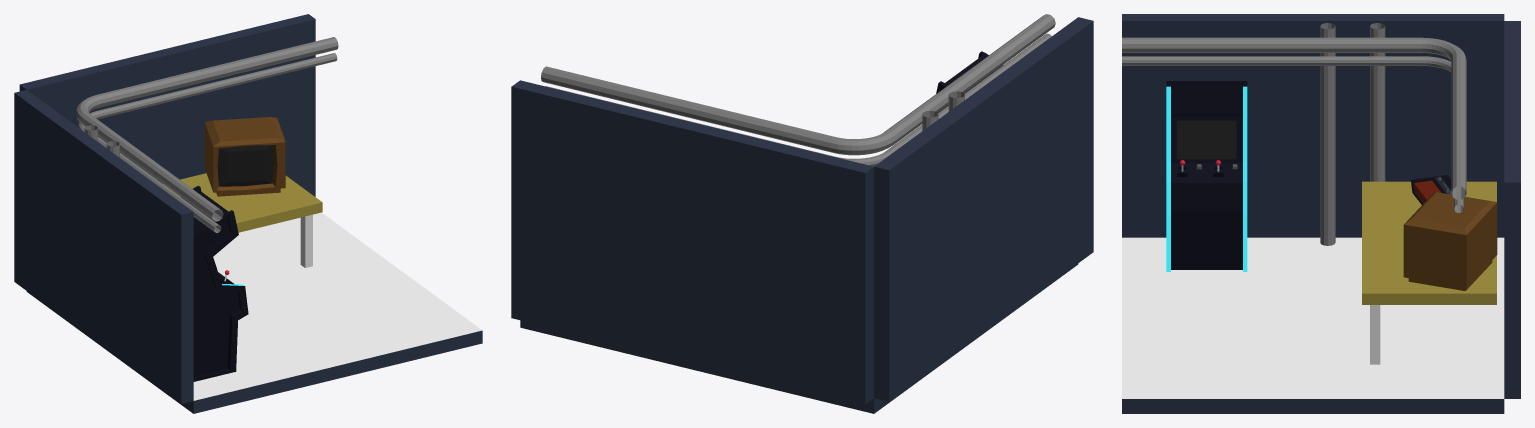
The model's file is room.glb.
The picture shows the model from 3 angles, left to right: view 1: azimuth 30°, elevation 25°; view 2: azimuth 150°, elevation 25°; view 3: azimuth 270°, elevation 25°; orthographic projection. The views are drawn at different scales.
Parts seen in each view (by area): view 1: Walls, Plane.005, Tube top, Tabletop, Tube Bottom, Plane.012, Plane.010, Table; view 2: Walls, Tube top, Tube Bottom; view 3: Walls, Plane.005, Tabletop, Tube top, Plane.010, Tubes Vertical, Tube Bottom, Plane.014, Table.
Part boxes in pixels (x1,y1,x2,y2): Walls: (14,14,482,413); Plane.005: (181,185,248,381); Tube top: (76,37,338,221); Tabletop: (163,173,322,232); Tube Bottom: (78,53,337,232); Plane.012: (213,142,279,192); Plane.010: (204,117,285,196); Table: (300,214,312,267); Walls: (511,17,1093,413); Tube top: (541,14,1055,155); Tube Bottom: (545,33,1051,166); Walls: (1122,14,1520,413); Plane.005: (1166,81,1247,271); Tabletop: (1362,181,1496,304); Tube top: (1122,37,1466,199); Plane.010: (1403,192,1497,291); Tubes Vertical: (1320,23,1385,245); Tube Bottom: (1122,56,1463,212); Plane.014: (1411,175,1451,204); Table: (1370,305,1380,364).
Size of the model in its own units: 8.34 by 5.51 by 8.34.
